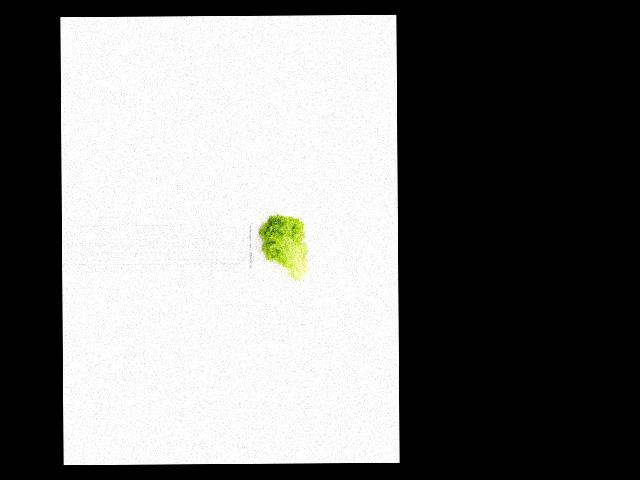lettuce: (258, 211, 310, 280)
